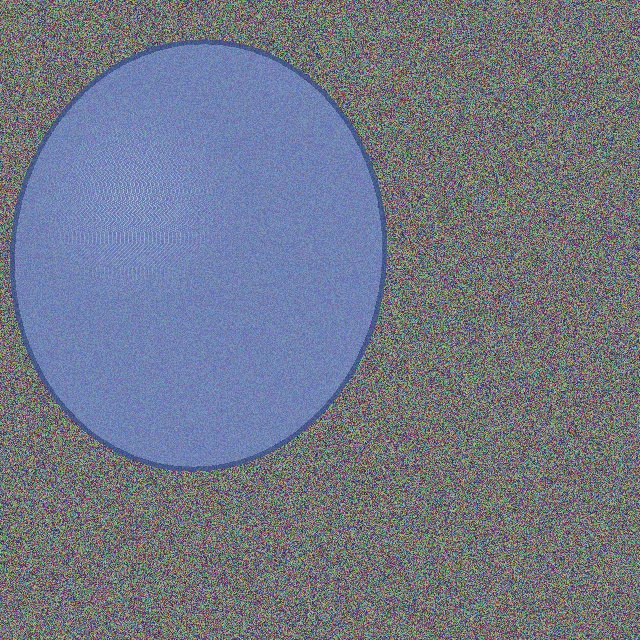lens: (13, 42, 383, 468)
